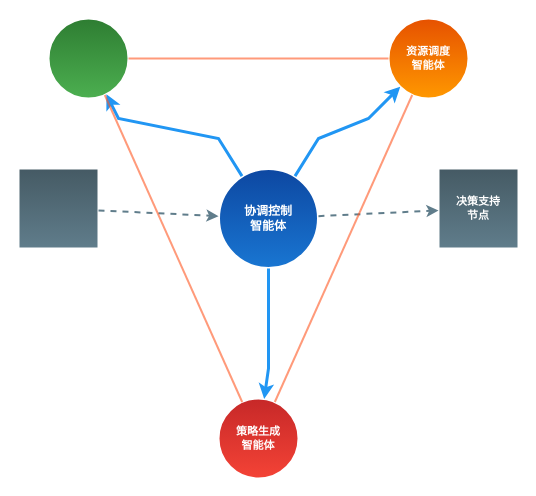
The diagram is 536 pixels wide and 496 high, and some of its shapes have lost their labels. Here are the shapes that lost their labels. From the top down, the centre of each, then its label:
At (88,58): "故障分析 智能体".
At (58,208): "知识服务 节点".
